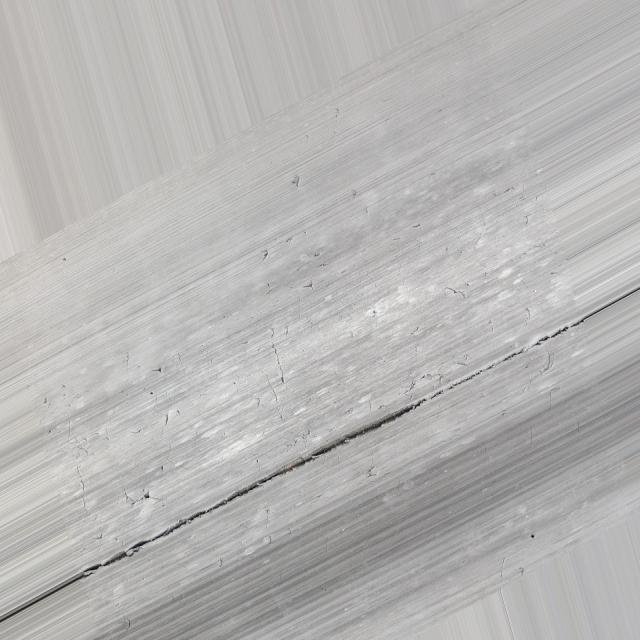Puncture: (528, 532, 538, 540), (304, 281, 313, 289), (153, 367, 161, 373), (144, 494, 148, 498)
Tear: (82, 319, 580, 578)
